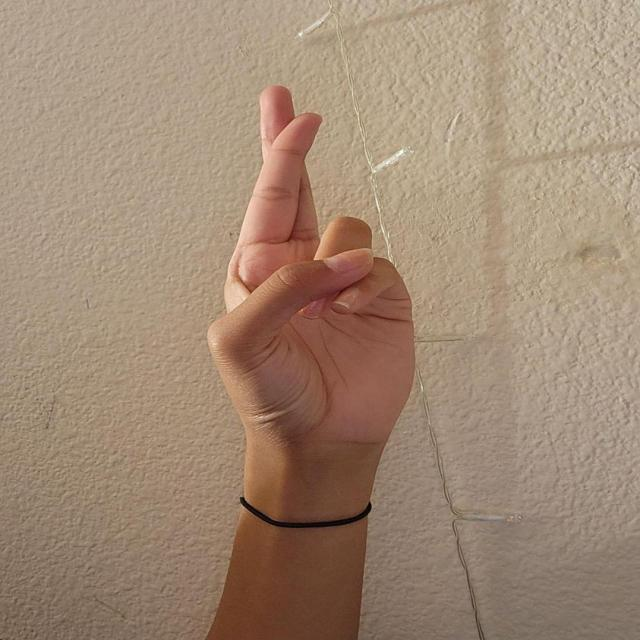R: (205, 80, 418, 468)
